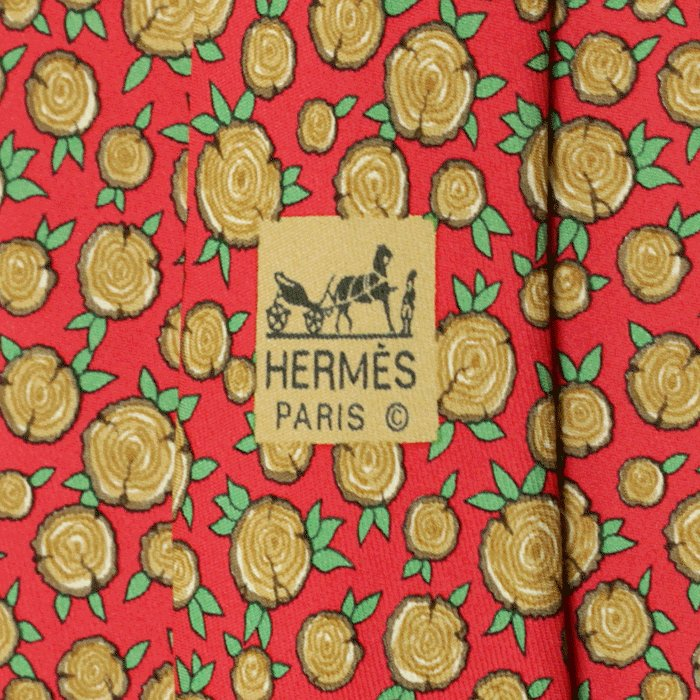HERMES: (264, 233, 424, 436)
